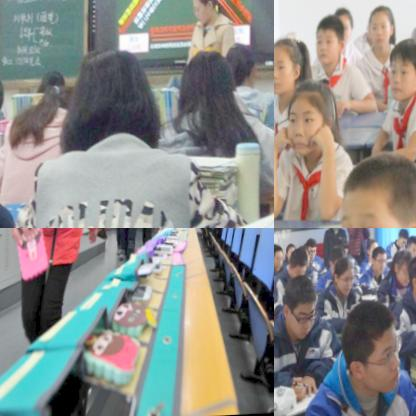head: (68, 48, 163, 158), (340, 297, 407, 400), (337, 155, 416, 228), (177, 50, 240, 128), (286, 81, 340, 155), (283, 274, 319, 341), (37, 80, 80, 130), (222, 35, 258, 94), (274, 34, 307, 94), (387, 38, 416, 100), (313, 19, 345, 68), (32, 68, 68, 101), (330, 7, 354, 48), (368, 9, 393, 48), (331, 259, 356, 297), (189, 0, 220, 29), (393, 252, 415, 288), (0, 67, 12, 122), (289, 247, 309, 278), (328, 246, 347, 272), (372, 250, 390, 277), (305, 237, 319, 264), (367, 237, 380, 261), (410, 254, 416, 302), (274, 246, 285, 272), (405, 236, 416, 262), (397, 228, 409, 250), (284, 242, 296, 262)
